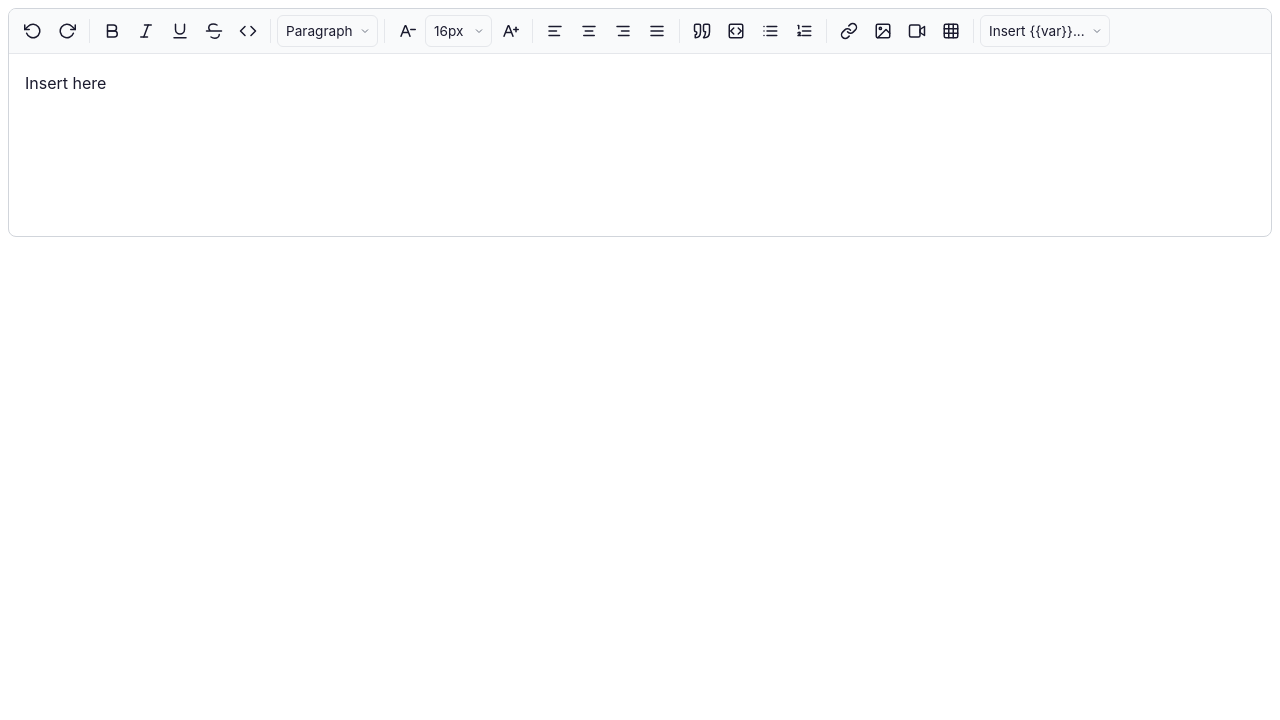
Test case: RichTextEditor insert tools › opens the link dialog
Click the button titled "Link": (849,31) [833, 15, 865, 47]
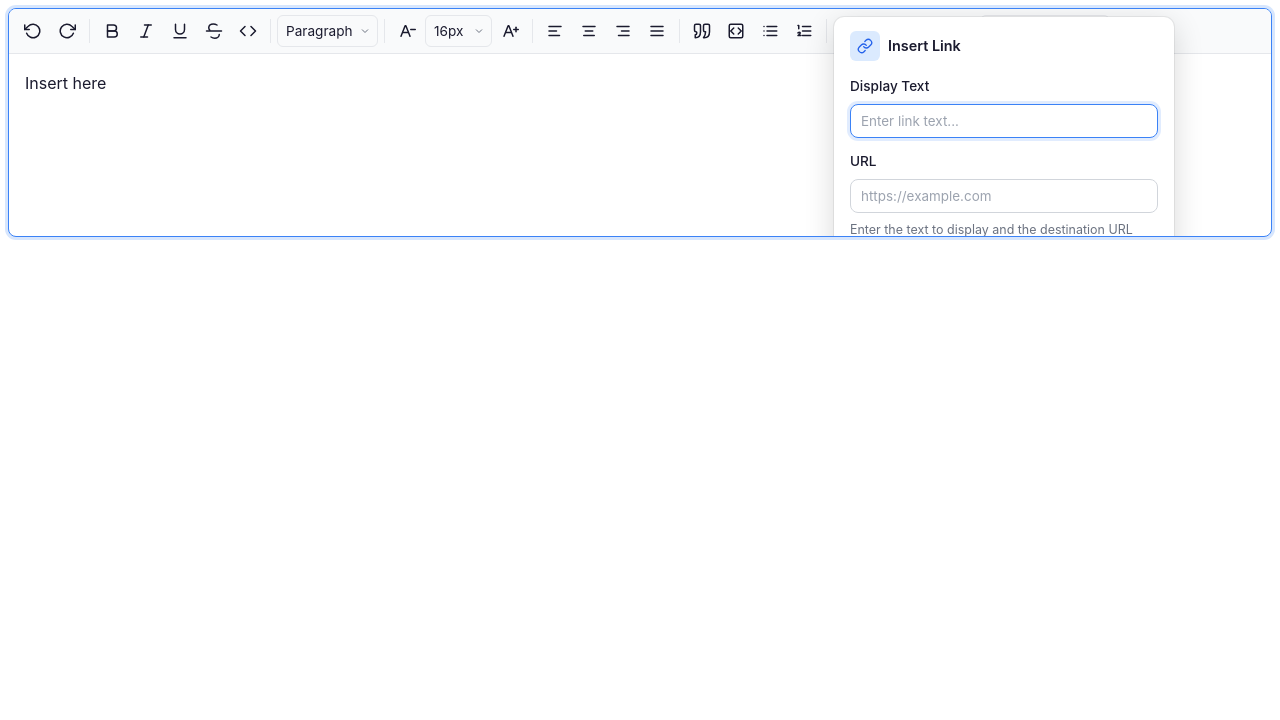
Result: the dialog shows "Insert Link" at [888, 37, 961, 54]
